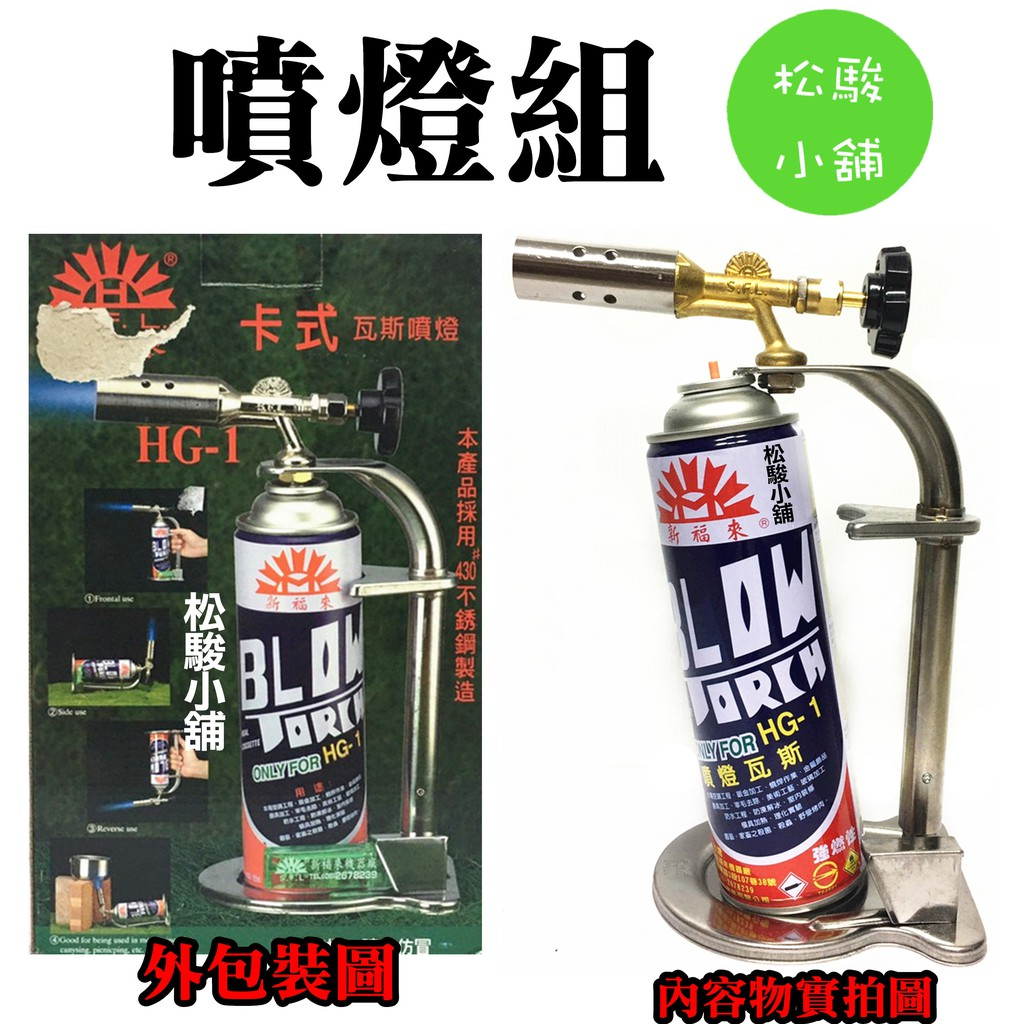gastorch: (507, 229, 1004, 966), (87, 373, 470, 918)
